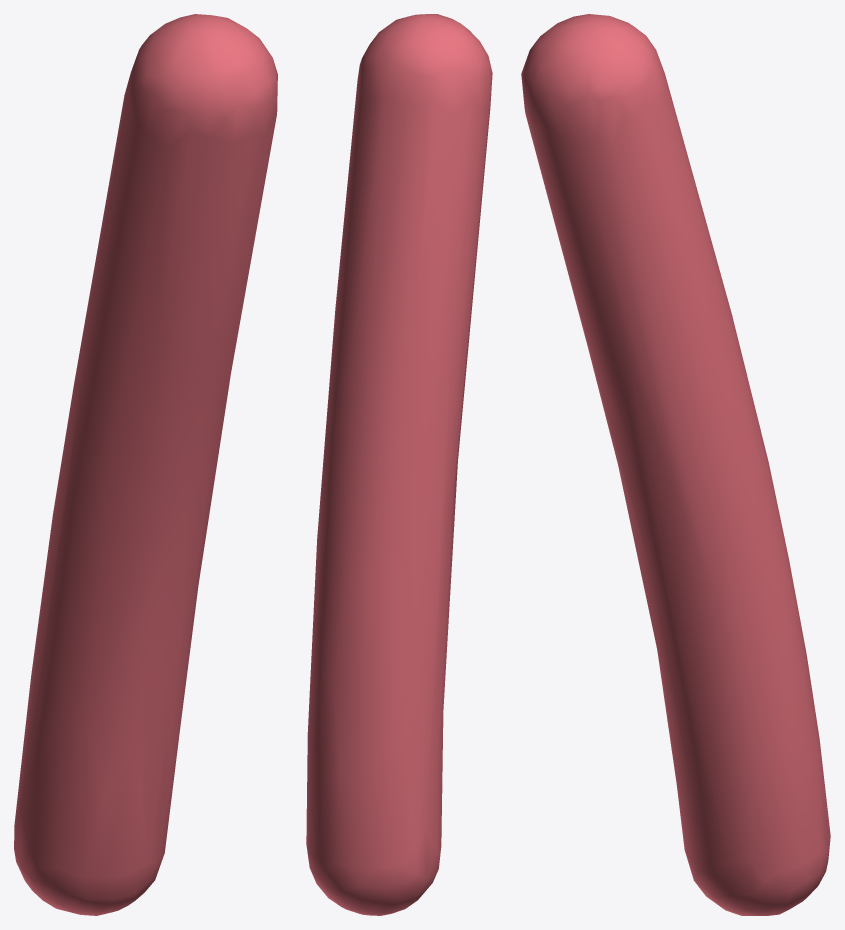
The model's file is fma23114_fj2299.glb.
The picture shows the model from 3 angles, left to right: view 1: azimuth 30°, elevation 25°; view 2: azimuth 150°, elevation 25°; view 3: azimuth 270°, elevation 25°; orthographic projection. The views are drawn at different scales.
Visible parts, largest first — view 1: FMA23114_FJ2299; view 2: FMA23114_FJ2299; view 3: FMA23114_FJ2299.
Part boxes in pixels (<box>): FMA23114_FJ2299: <box>14,14,277,915</box>; FMA23114_FJ2299: <box>306,14,492,915</box>; FMA23114_FJ2299: <box>521,14,830,915</box>.
Bounding box in the file's own units: 0.00355 × 0.0201 × 0.00625.
